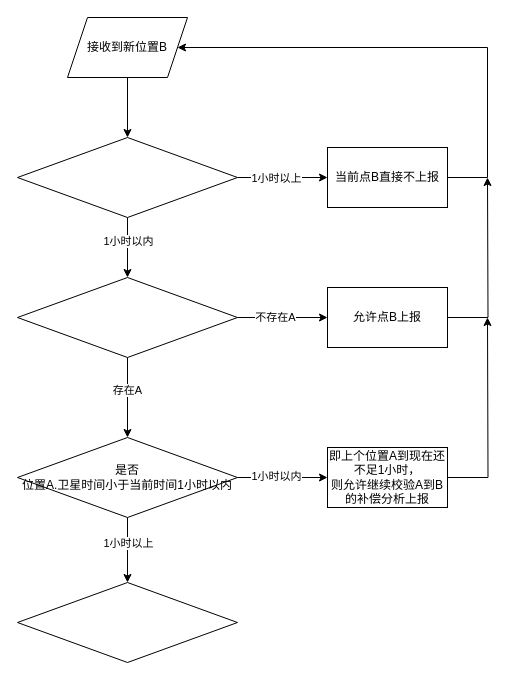
Image size: 514x680. Some labels were removed from this diagram. Each missing label, with the centre of its shape:
"卫星时间是否小于当前时间1小时以上" belongs at (x=127, y=177).
"是否存在上一个上报位置A" belongs at (x=127, y=317).
